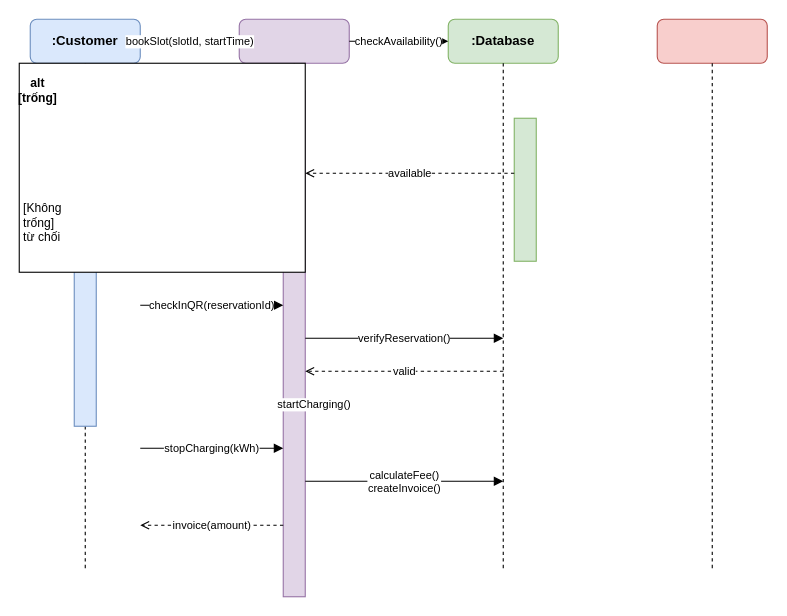
Image size: 787x616. Some labels were removed from this diagram. Each missing label, with the centre of its shape:
:System: the point at 293,40
:VNPay: the point at 711,40
